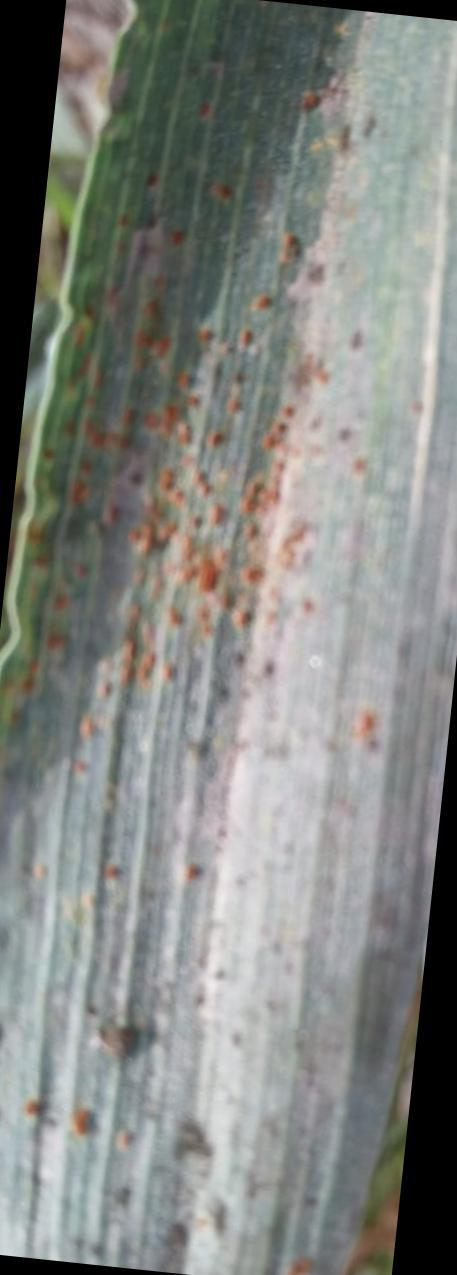Wheat: (38, 236, 433, 699)
